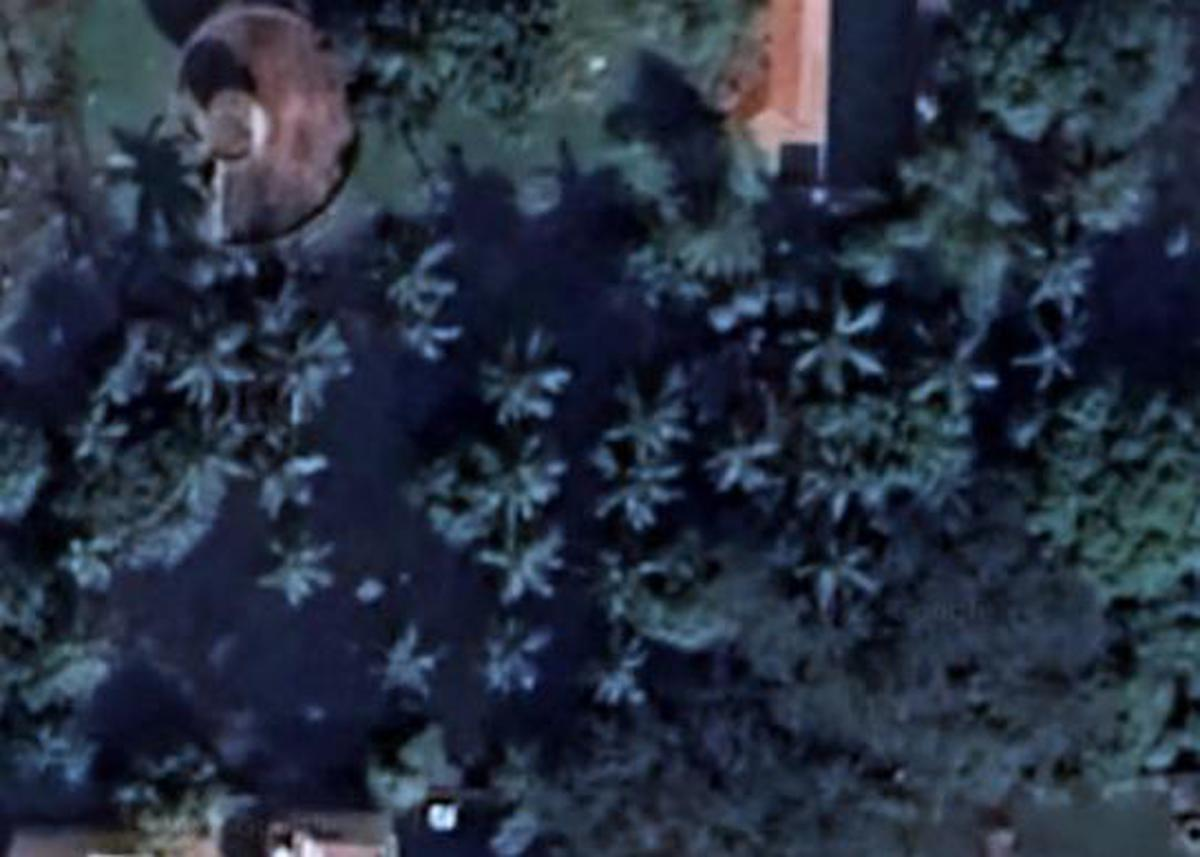coconut: (777, 284, 897, 399), (472, 435, 581, 541), (1009, 205, 1111, 309), (154, 408, 254, 505), (603, 355, 696, 459), (481, 326, 572, 421), (167, 309, 260, 401), (592, 448, 689, 536), (795, 530, 886, 620), (698, 401, 786, 494), (906, 324, 994, 415), (800, 432, 883, 527), (269, 322, 355, 413), (479, 521, 567, 602), (581, 543, 671, 622), (1009, 302, 1087, 393), (574, 631, 656, 711), (256, 530, 333, 611), (256, 437, 331, 519), (382, 302, 464, 373), (477, 616, 548, 695), (384, 238, 459, 311), (366, 625, 437, 700), (61, 397, 130, 463), (59, 532, 119, 598)
